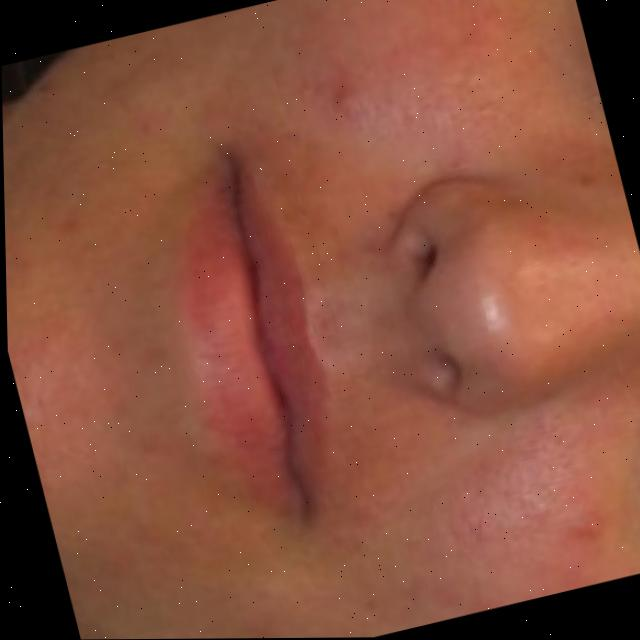Acne: (274, 0, 560, 175), (398, 425, 639, 622)
